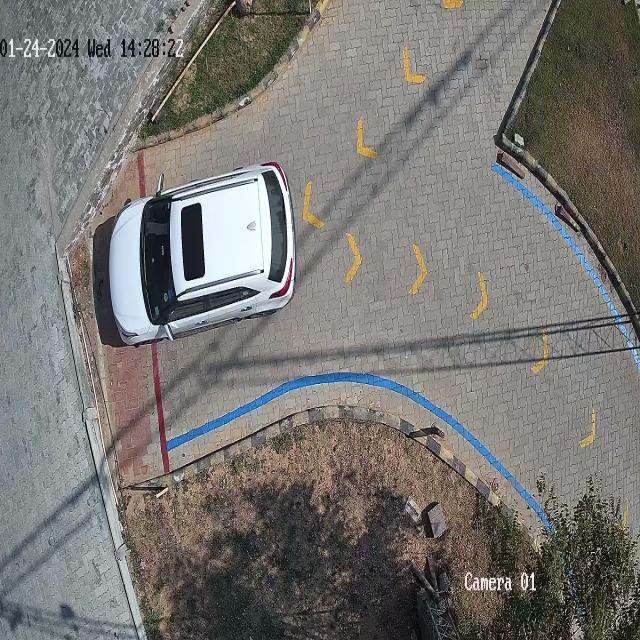car: (110, 162, 295, 344)
